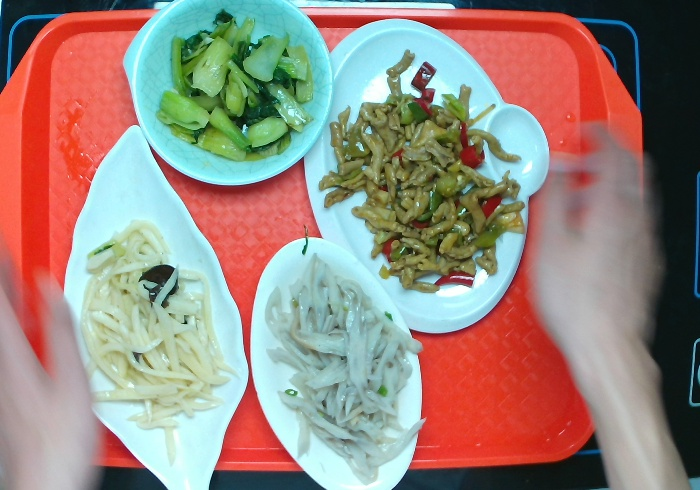RJxy-Bai_Se_Tuo_Yuan: (248, 235, 424, 490)
RJxy-Shu_Ye_Pan: (61, 122, 250, 490)
RJxy-Xiao_Jiao_Yuan_Wan: (121, 1, 335, 187)
RJxy-Zhan_Liao_Pan: (302, 17, 551, 334)
